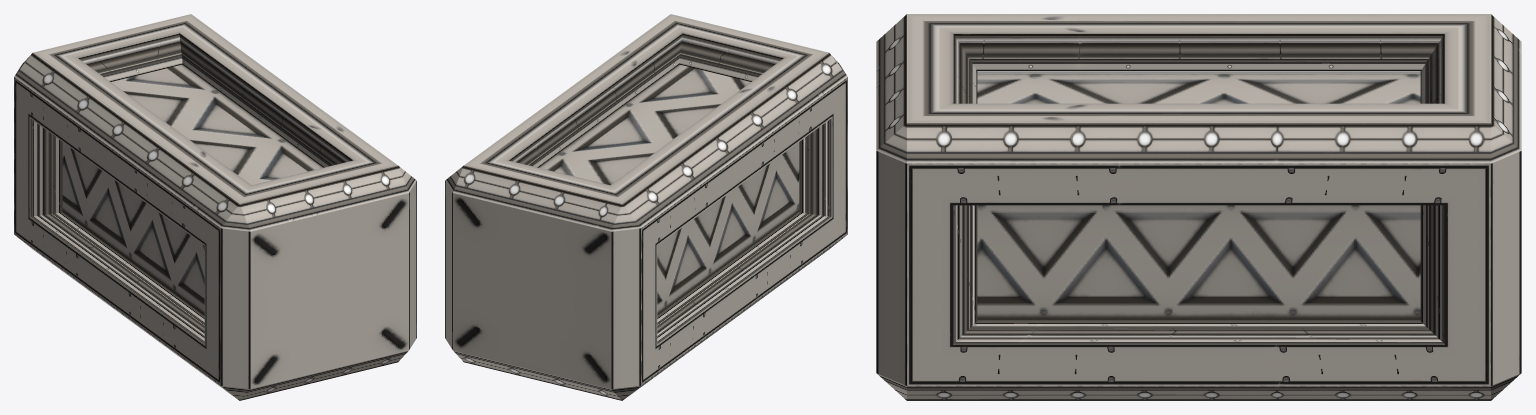
File: crate long.fbx
3 renders of one model, left to right at view 1: azimuth 30°, elevation 25°; view 2: azimuth 150°, elevation 25°; view 3: azimuth 270°, elevation 25°, orthographic. The views are drawn at different scales.
Visible parts, largest first — view 1: crate_long; view 2: crate_long; view 3: crate_long.
Boxes of the visible parts, x1,y1,x2,y2 form: crate_long: (14, 14, 416, 400); crate_long: (445, 14, 847, 400); crate_long: (876, 14, 1521, 400).
Size of the model in its own units: 2.18 by 2.1 by 4.41.
1 material, 1 textured.
